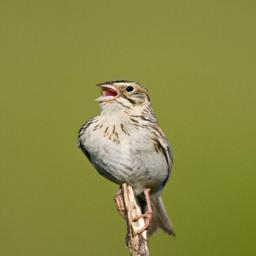Sparrow: (73, 79, 180, 240)
